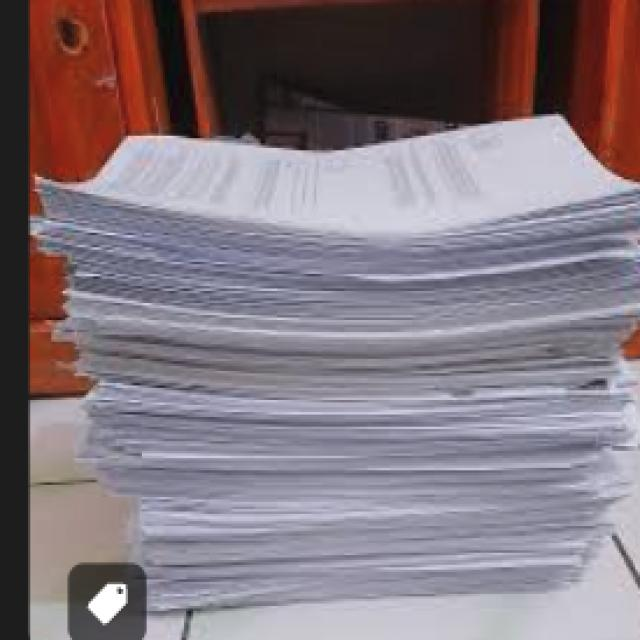KertasBekas: (30, 109, 638, 618)
